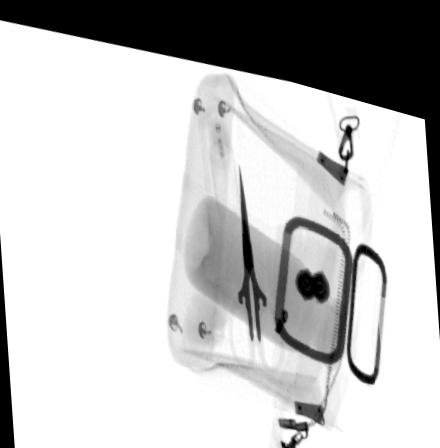Scissors: (225, 146, 285, 358)
